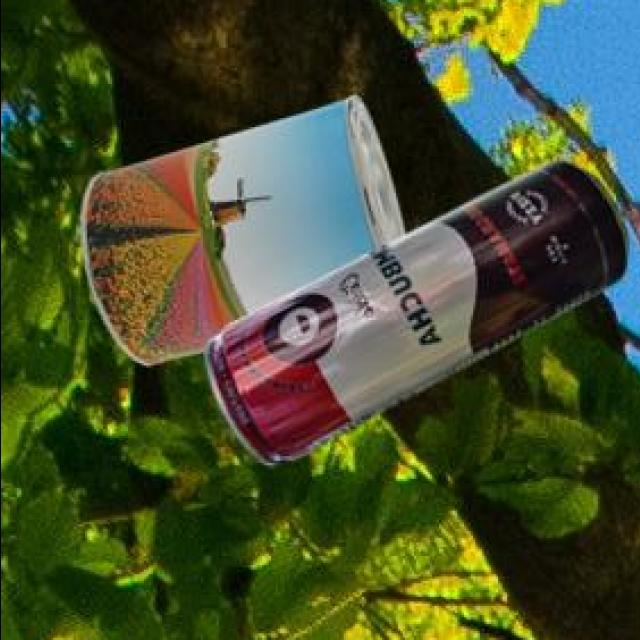logam: (208, 165, 630, 469), (83, 99, 407, 369)
